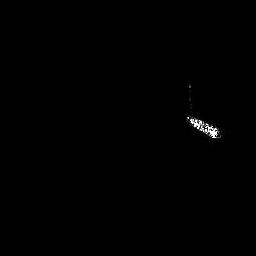ship: (185, 113, 224, 141)
